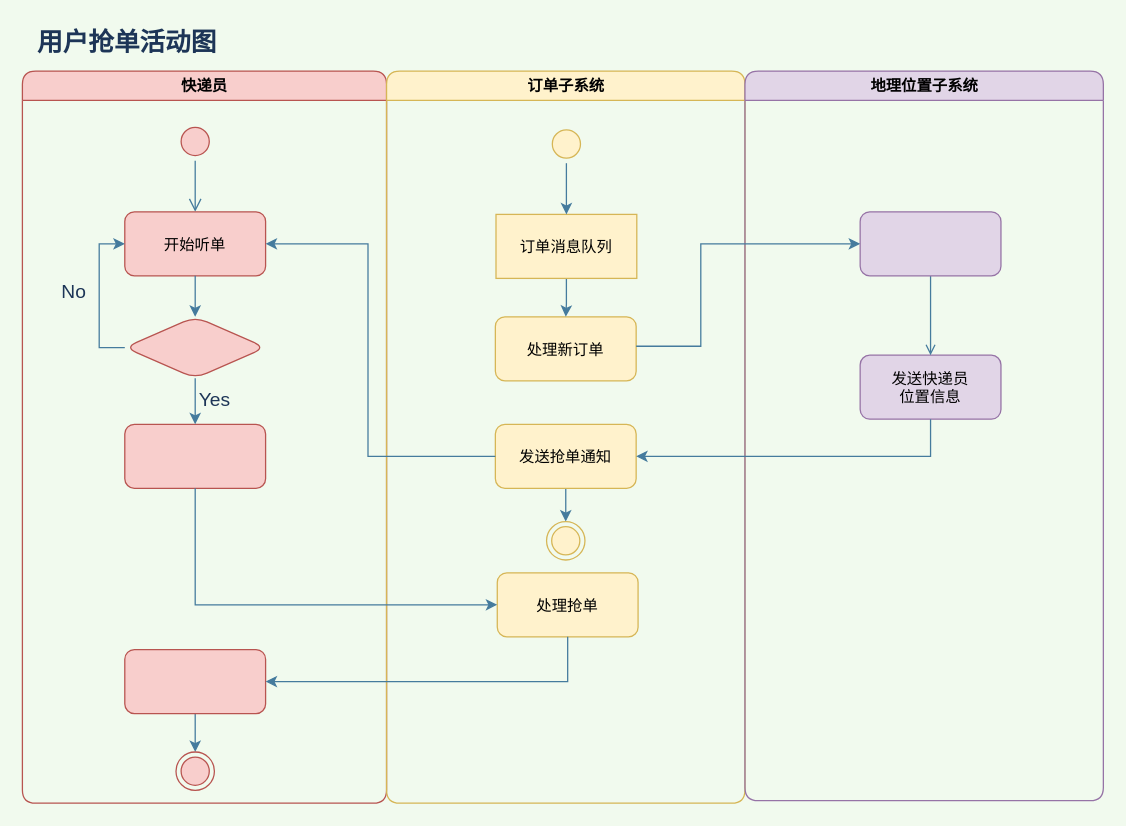
Image size: 1126x826. Some labels were removed from this diagram. Each missing label, with the centre of its shape:
"抢单" goes at point 195,455.
"是否有 新抢单通知" goes at point 195,347.
"查询快递员 地理位置" goes at point 930,243.
"通知抢单结果" goes at point 195,681.
